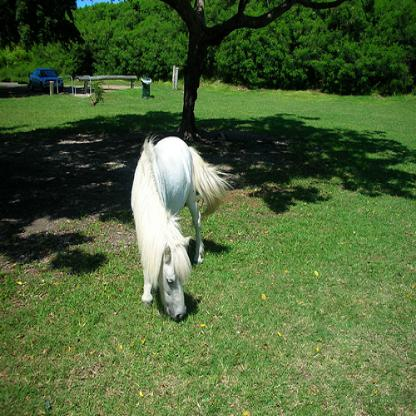horse: (134, 131, 229, 323)
